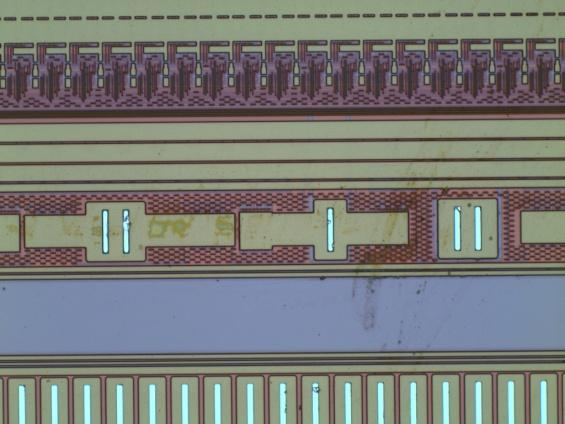PO CONTAMINATION: (344, 108, 526, 374)
